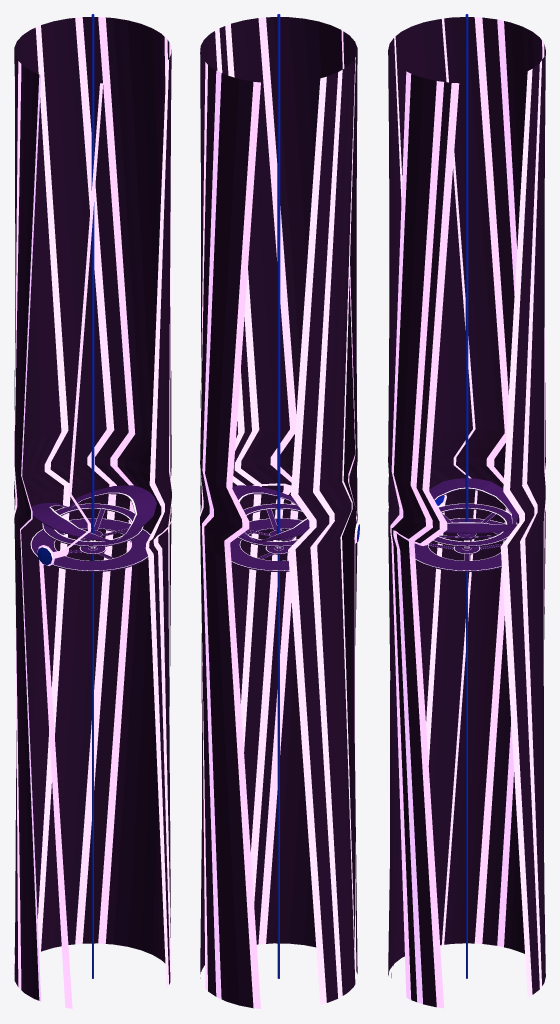
File: GameJam_Env_Separated_V3.fbx
3 renders of one model, left to right at view 1: azimuth 30°, elevation 25°; view 2: azimuth 150°, elevation 25°; view 3: azimuth 270°, elevation 25°, orthographic.
Visible parts, largest first — view 1: Background_tube, Reaktor, Main_Map_Floor_1, Main_Map_Floor_3, Main_Map_Floor_2; view 2: Background_tube, Reaktor, Main_Map_Floor_1, Main_Map_Floor_3, Main_Map_Floor_2; view 3: Background_tube, Reaktor, Main_Map_Floor_3, Main_Map_Floor_1, Main_Map_Floor_2.
Part boxes in pixels (bbox=[...]): Background_tube: bbox=[14, 17, 171, 1008]; Reaktor: bbox=[90, 14, 95, 978]; Main_Map_Floor_1: bbox=[30, 518, 150, 571]; Main_Map_Floor_3: bbox=[31, 485, 156, 542]; Main_Map_Floor_2: bbox=[42, 503, 143, 547]; Background_tube: bbox=[200, 17, 359, 1008]; Reaktor: bbox=[276, 14, 281, 978]; Main_Map_Floor_1: bbox=[230, 518, 302, 571]; Main_Map_Floor_3: bbox=[232, 485, 309, 542]; Main_Map_Floor_2: bbox=[237, 503, 303, 547]; Background_tube: bbox=[388, 17, 545, 1008]; Reaktor: bbox=[464, 14, 469, 978]; Main_Map_Floor_3: bbox=[429, 478, 518, 533]; Main_Map_Floor_1: bbox=[414, 518, 505, 571]; Main_Map_Floor_2: bbox=[432, 503, 517, 547].
Size of the model in its own units: 24066 by 162220 by 24066.
